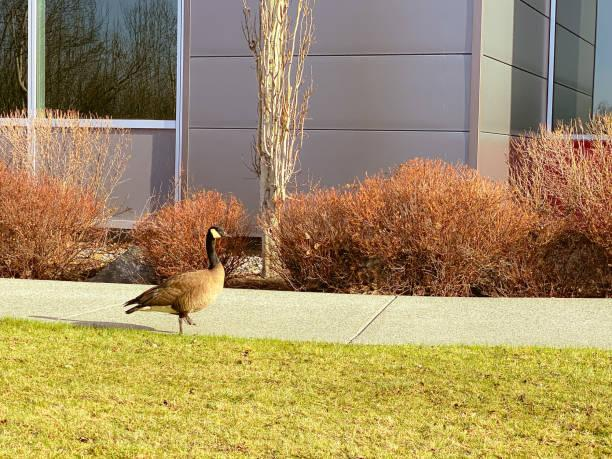Canadian-Goose: (124, 224, 233, 339)
